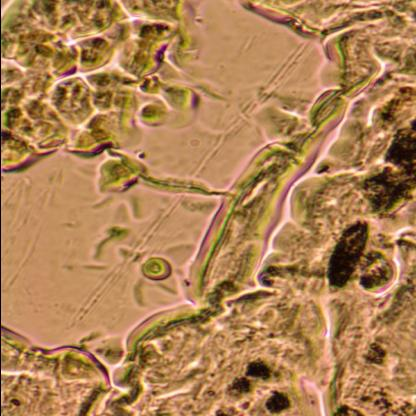Normal: (218, 0, 414, 416), (0, 274, 416, 416), (1, 0, 214, 157)
